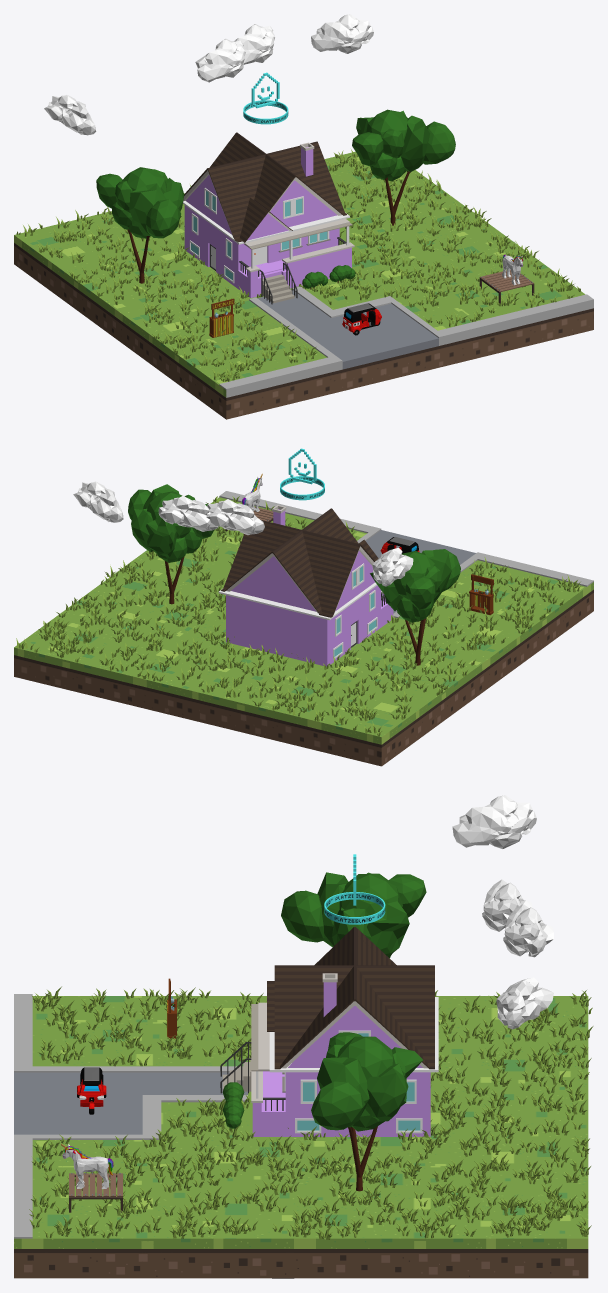
3 renders of one model, top to bottom at view 1: azimuth 30°, elevation 25°; view 2: azimuth 150°, elevation 25°; view 3: azimuth 270°, elevation 25°, orthographic. The views are drawn at different scales.
Visible parts, largest first — view 1: Cube.006, Cube.391, Circle.012_Grass_0.192, Cube.007, tree, tree.001, TYPE_PREMIUM, VEHICLES_TUC_TUC, OBJRANDOM_LEMONADE_STAND, Cube.009; view 2: Cube.006, Cube.391, Circle.012_Grass_0.192, Cube.007, tree.001, tree, TYPE_PREMIUM, OBJRANDOM_LEMONADE_STAND, VEHICLES_TUC_TUC; view 3: Cube.006, Circle.012_Grass_0.192, Cube.391, tree, Cube.007, tree.001, Cube.009, TYPE_PREMIUM, ANIMAL_UNICORNIO, VEHICLES_TUC_TUC.
Part boxes in pixels (box(x1,y1,x2,y2)): Cube.006: box(14, 151, 593, 419); Cube.391: box(183, 132, 354, 304); Circle.012_Grass_0.192: box(16, 149, 580, 381); Cube.007: box(44, 14, 373, 135); tree: box(352, 109, 455, 225); tree.001: box(96, 167, 184, 283); TYPE_PREMIUM: box(243, 72, 288, 124); VEHICLES_TUC_TUC: box(342, 303, 381, 335); OBJRANDOM_LEMONADE_STAND: box(209, 298, 234, 337); Cube.009: box(479, 270, 534, 303); Cube.006: box(14, 491, 593, 766); Cube.391: box(218, 505, 393, 666); Circle.012_Grass_0.192: box(16, 496, 580, 736); Cube.007: box(73, 481, 413, 586); tree.001: box(370, 549, 460, 665); tree: box(128, 484, 214, 604); TYPE_PREMIUM: box(280, 448, 324, 500); OBJRANDOM_LEMONADE_STAND: box(469, 574, 493, 615); VEHICLES_TUC_TUC: box(380, 537, 419, 553); Cube.006: box(14, 994, 588, 1278); Circle.012_Grass_0.192: box(29, 986, 593, 1239); Cube.391: box(220, 927, 438, 1136); tree: box(311, 1032, 423, 1191); Cube.007: box(452, 795, 553, 1029); tree.001: box(281, 872, 426, 958); Cube.009: box(69, 1172, 122, 1212); TYPE_PREMIUM: box(324, 854, 385, 924); ANIMAL_UNICORNIO: box(61, 1143, 113, 1189); VEHICLES_TUC_TUC: box(77, 1067, 106, 1114).
Size of the model in its own units: 4071 by 2308 by 4040.
49 materials, 4 textured.
